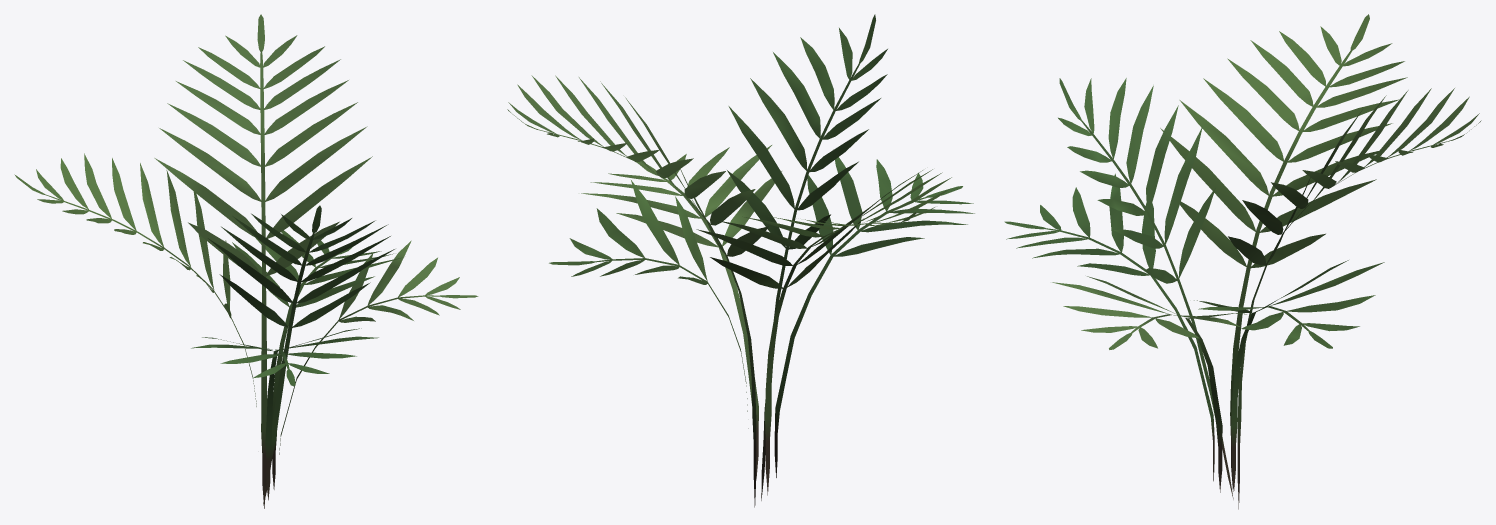
File: plants-trees-palms-parlor-palm_v2.fbx
The picture shows the model from 3 angles, left to right: view 1: azimuth 30°, elevation 25°; view 2: azimuth 150°, elevation 25°; view 3: azimuth 270°, elevation 25°; orthographic projection. The views are drawn at different scales.
Visible parts, largest first — view 1: Parlor Palm_v2; view 2: Parlor Palm_v2; view 3: Parlor Palm_v2.
Boxes of the visible parts, box(x1,y1,x2,y2) form: Parlor Palm_v2: box(14, 14, 478, 508); Parlor Palm_v2: box(507, 14, 974, 507); Parlor Palm_v2: box(1004, 14, 1481, 509).
Bounding box in the file's own units: 0.9401 × 1 × 0.9653.
